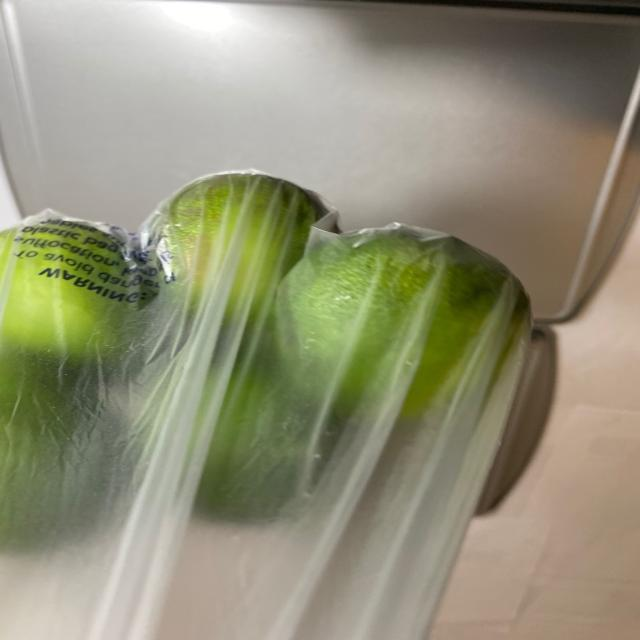lemon: (0, 190, 524, 540)
